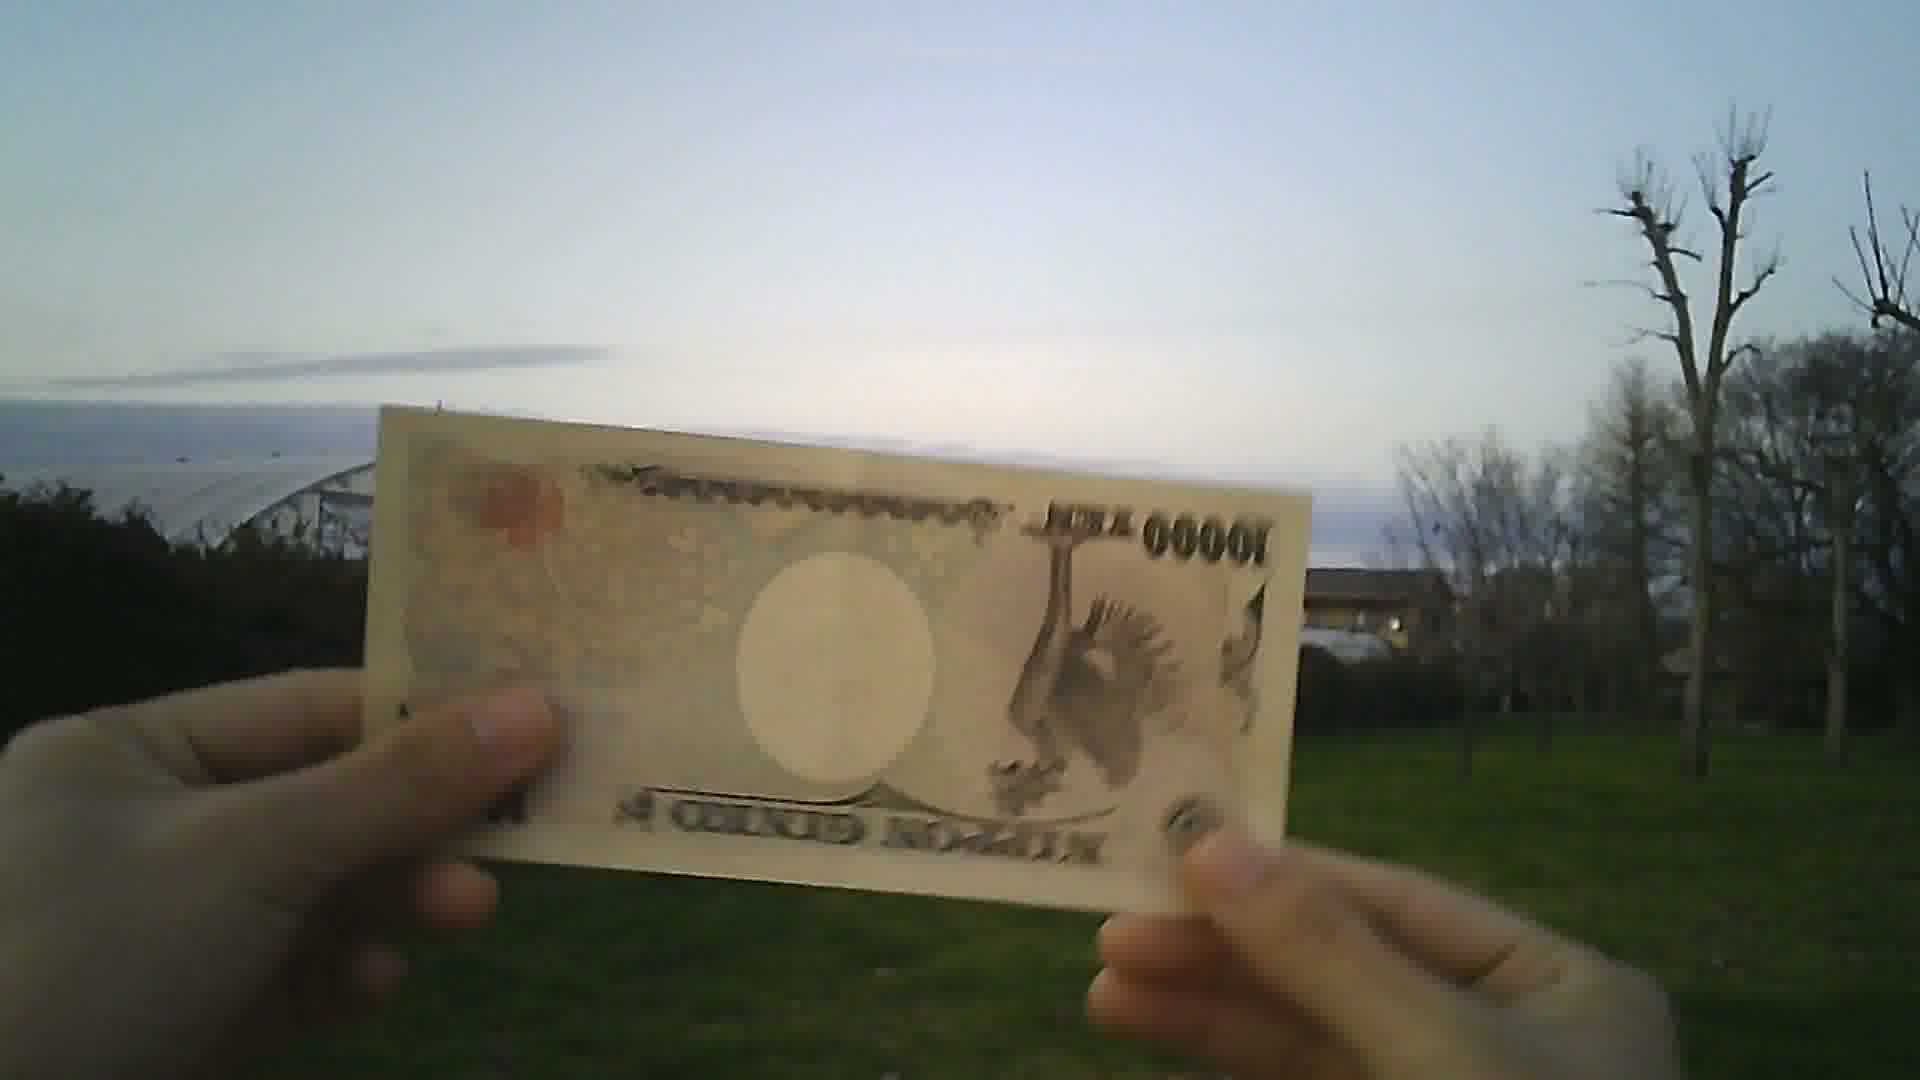10,000 Yen: (345, 388, 1312, 916)
